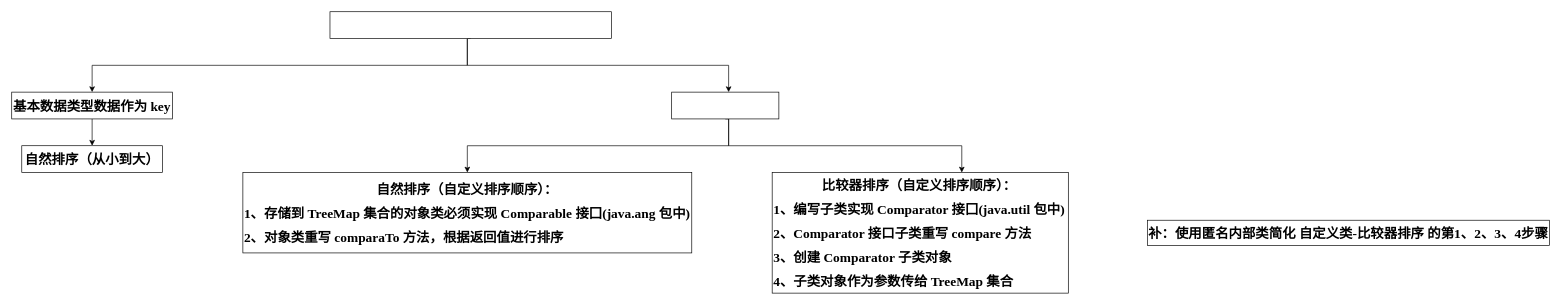
This 1561x305 diagram has some shape labels left out. Each missing label, with the centre of its shape:
"TreeMap 集合的排序(参考 TreeSet 集合的排序)" goes at (470,25).
"自定义类作为 key" goes at (725,105).
